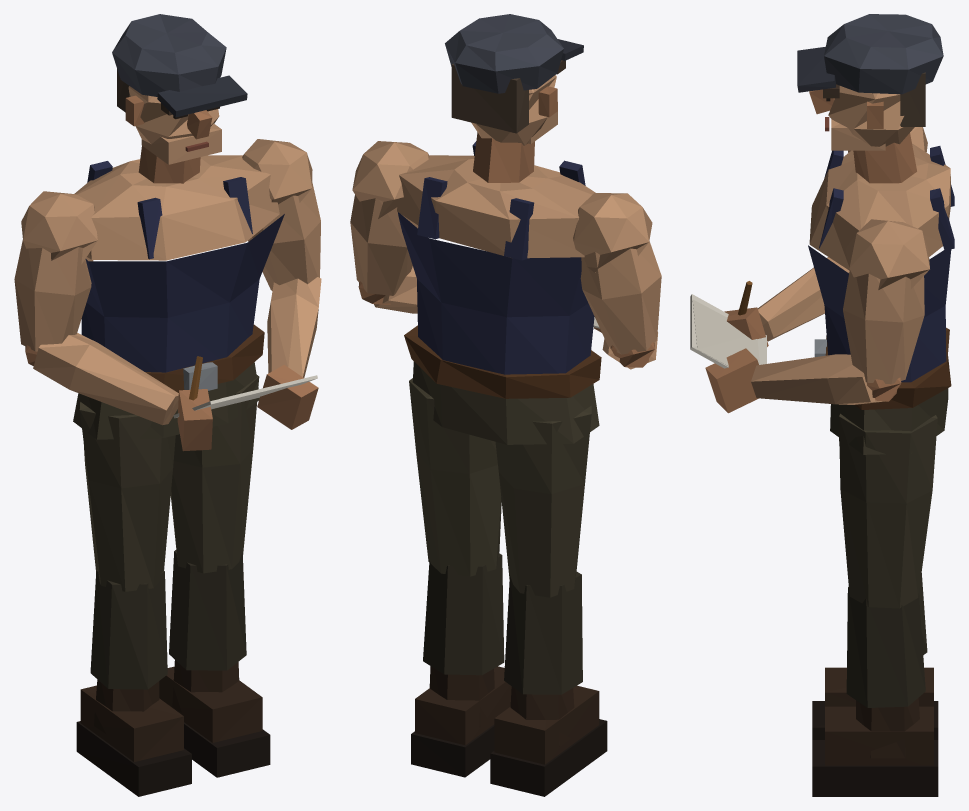
The model's file is steelworker_lowpoly.glb.
3 renders of one model, left to right at view 1: azimuth 30°, elevation 25°; view 2: azimuth 150°, elevation 25°; view 3: azimuth 270°, elevation 25°, orthographic.
Parts seen in each view (by area): view 1: Worker; view 2: Worker; view 3: Worker.
Part boxes in pixels (box(x1,y1,x2,y2)): Worker: box(14, 14, 321, 796); Worker: box(350, 14, 661, 796); Worker: box(690, 14, 954, 796).
Bounding box in the file's own units: 0.8194 × 1.93 × 0.631.
